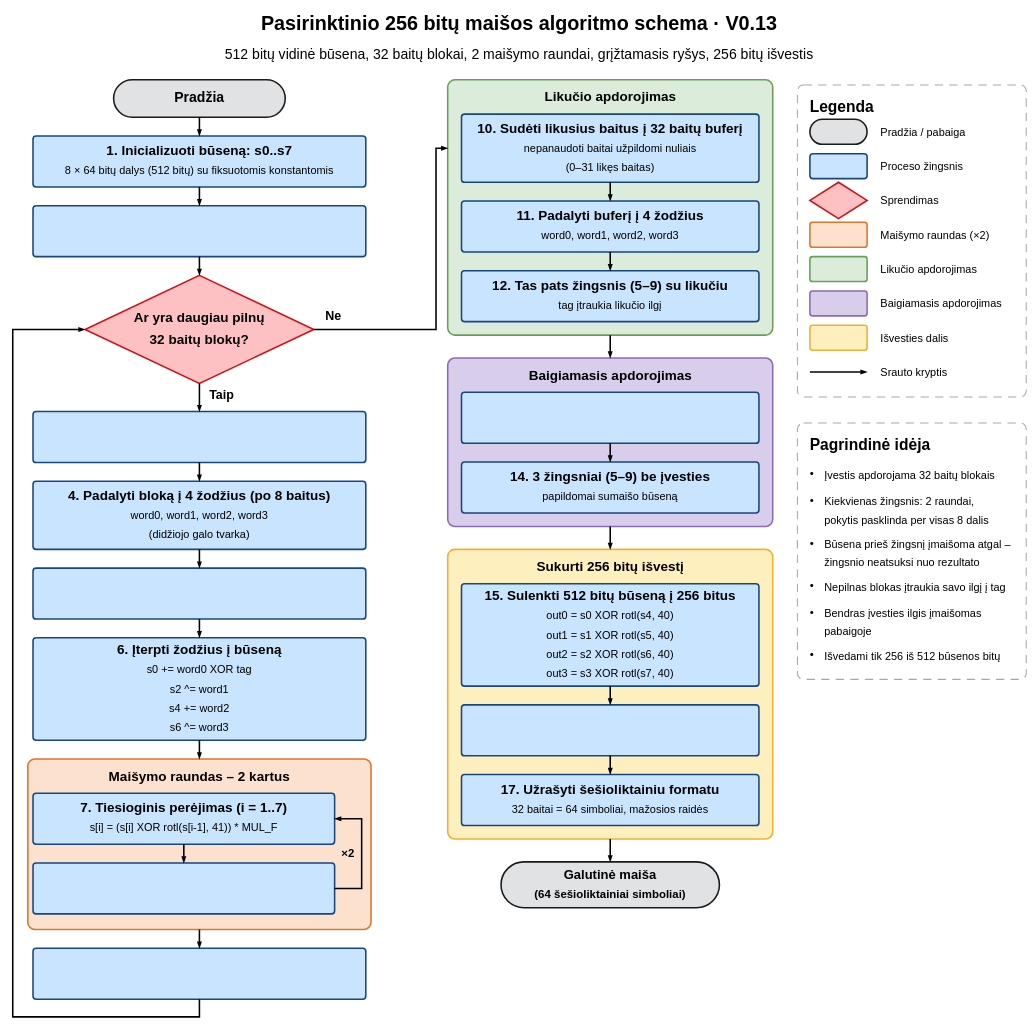
This 1036x1030 diagram has some shape labels left out. The shapes that lost their labels are listed below. From the top down, each one's centre as x and y in pixels, then its label:
At pixel 199 231: "2. Paversti įvestį į baitus tekstas – UTF-8 baitai, failas – tikslūs jo baitai".
At pixel 199 437: "3. Paimti kitą 32 baitų bloką perskaityti kitus 32 baitus iš įvesties".
At pixel 609 417: "13. Įmaišyti įvesties ilgį L žingsnis (5–9) su žodžiais L, rotl(L, 32), 0, 0".
At pixel 199 593: "5. Įsiminti būseną: t = s kopija grįžtamajam ryšiui (9 žingsnis)".
At pixel 609 730: "16. Užrašyti žodžius didžiojo galo tvarka out0..out3 → 32 baitai = 256 bitai".
At pixel 183 888: "8. Atgalinis perėjimas (i = 6..0) s[i] = (s[i] + rotl(s[i+1], 53)) * MUL_B".
At pixel 199 973: "9. Grįžtamasis ryšys: s[i] ^= t[i] (i = 0..7) žingsnio nebegalima atsukti atgal".
